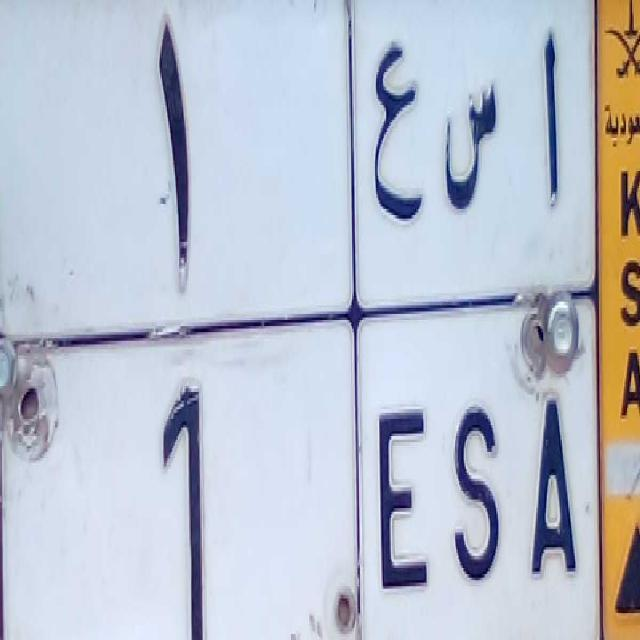license_plate: (0, 307, 596, 640)
